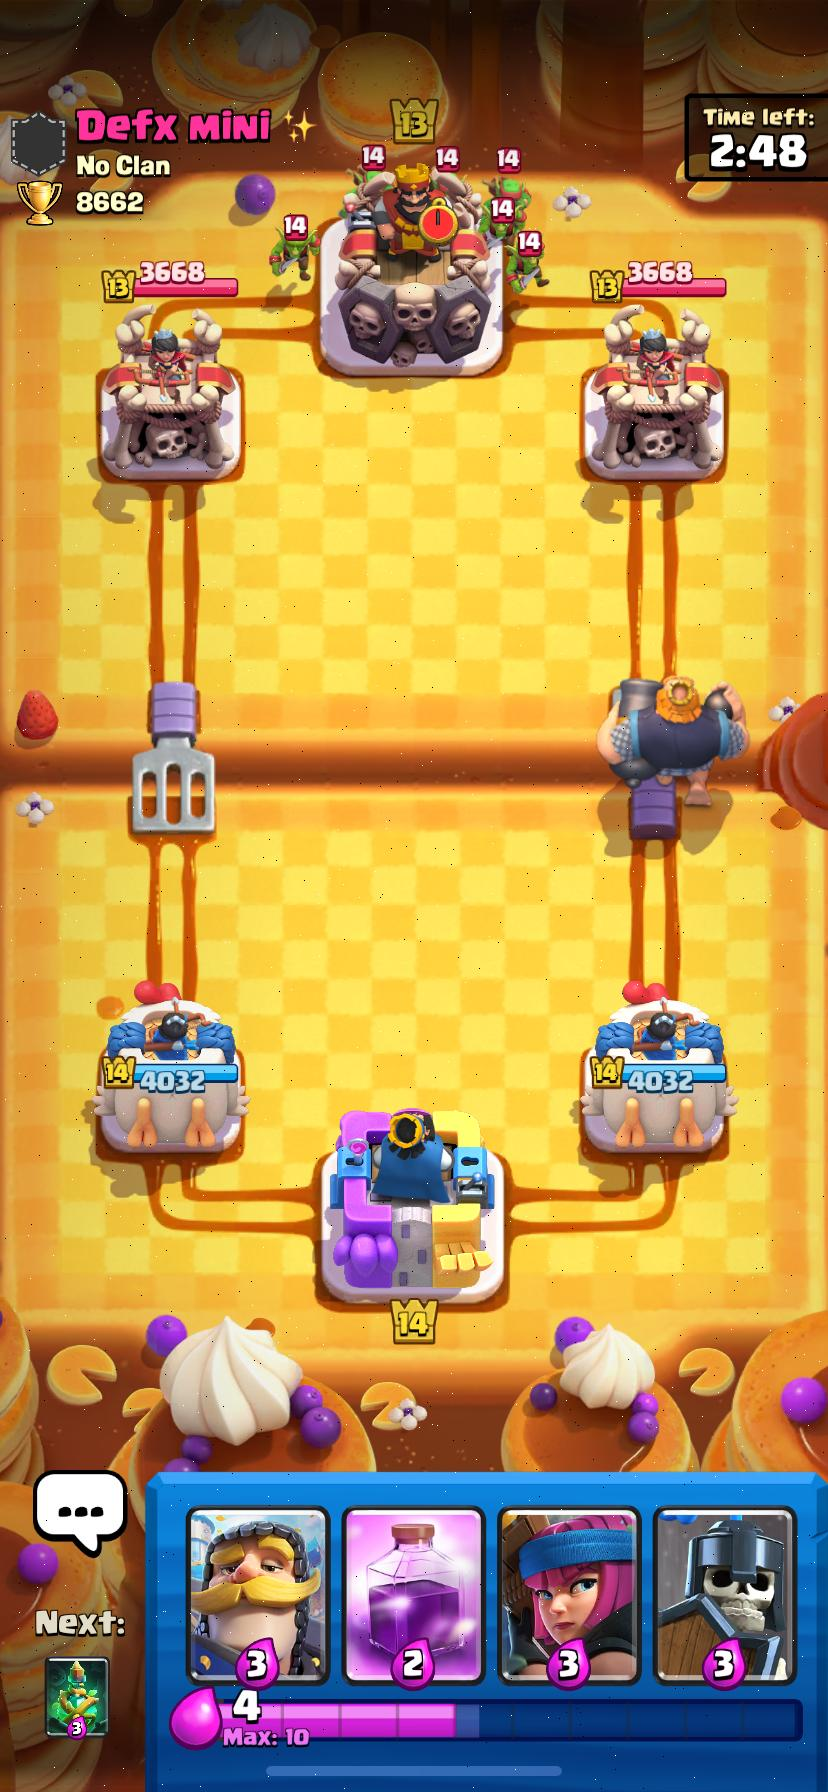EGoblin: (269, 214, 318, 281), (505, 229, 547, 294), (481, 215, 519, 243)
EKingTower: (320, 165, 502, 377)
ESpearGoblin: (489, 175, 530, 214)
EnemyPrincessTower: (586, 305, 723, 480), (101, 309, 240, 480)
ORoyalG: (598, 675, 748, 805)
OwnKingTower: (321, 1109, 503, 1303)
OwnPrincessTower: (580, 982, 735, 1154), (93, 983, 248, 1152)
